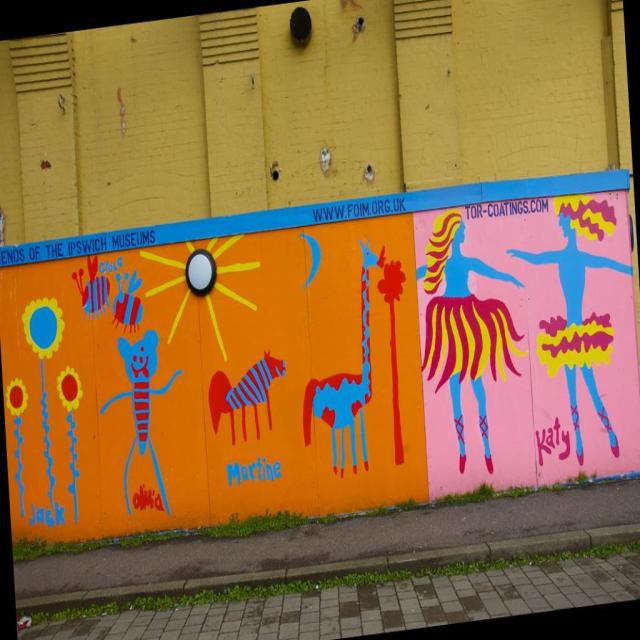Giraffe: (304, 241, 380, 477)
